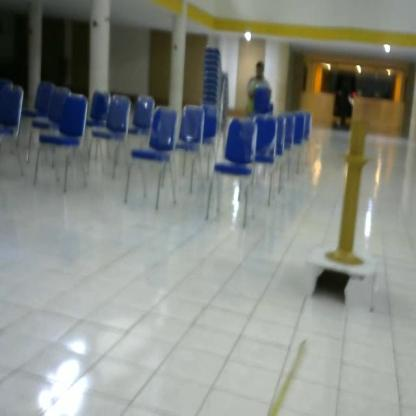pole: (316, 116, 383, 270)
